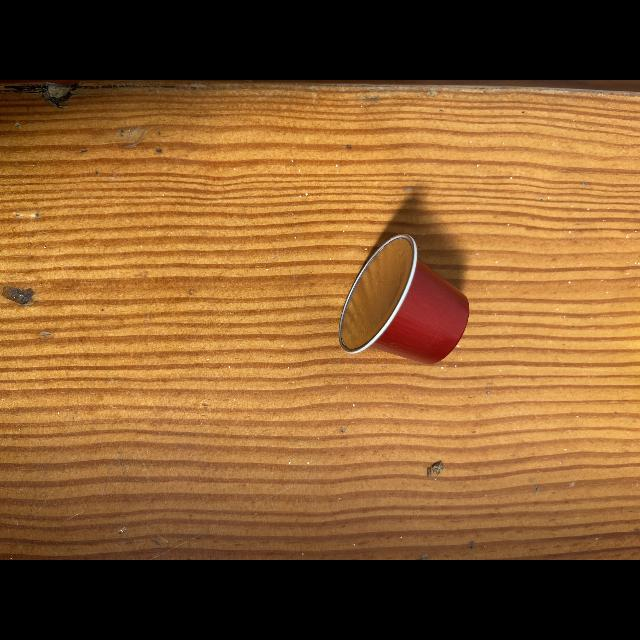intact_capsule: (322, 225, 500, 381)
